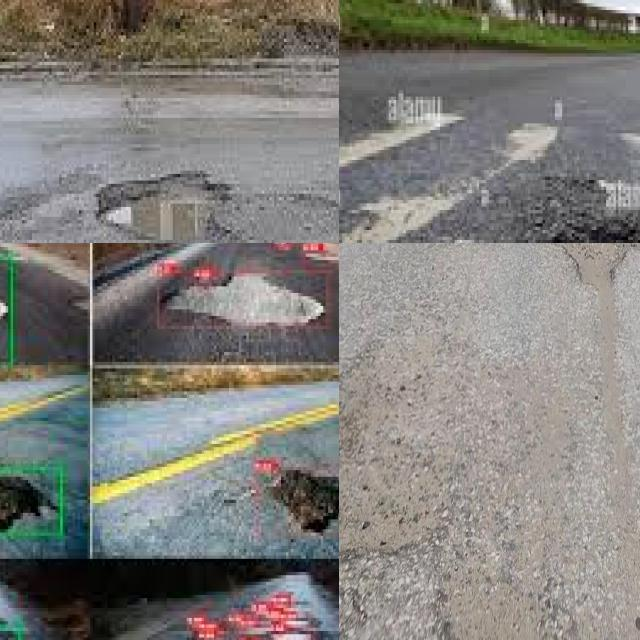Pothole: (339, 336, 442, 563), (429, 561, 549, 640), (96, 177, 215, 243), (269, 470, 339, 536), (0, 475, 55, 529), (561, 243, 631, 284), (242, 601, 313, 640)
